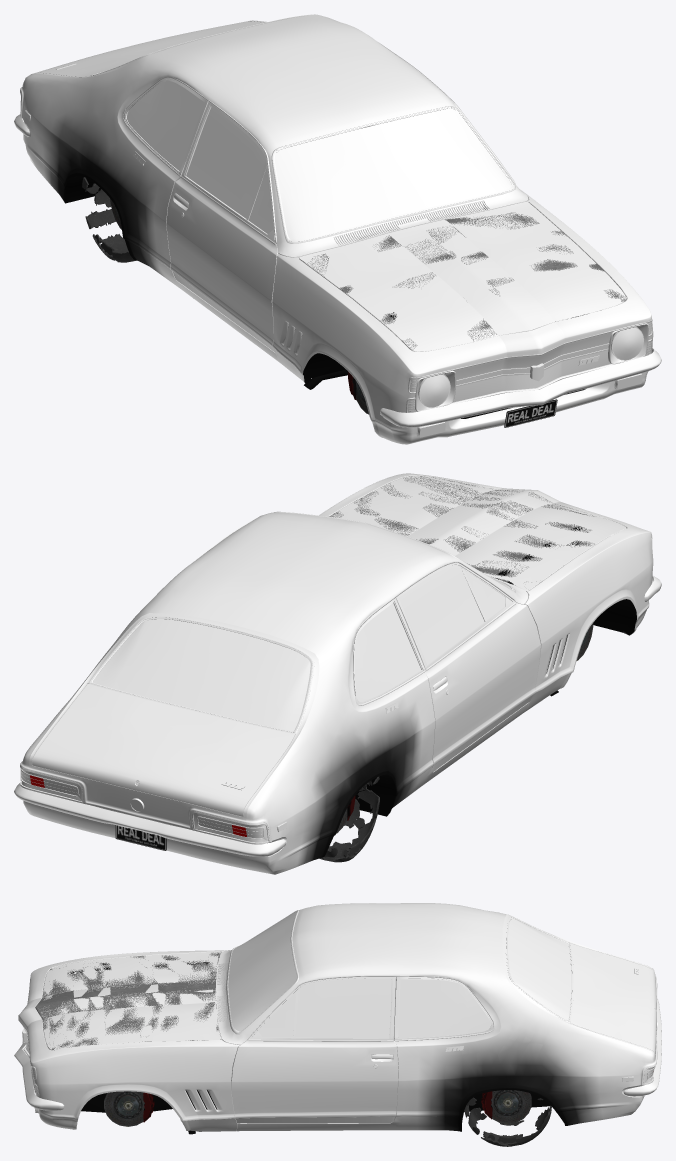
The model's file is 62_REALDEAL.fbx.
3 renders of one model, top to bottom at view 1: azimuth 30°, elevation 25°; view 2: azimuth 150°, elevation 25°; view 3: azimuth 270°, elevation 25°, orthographic. The views are drawn at different scales.
Parts seen in each view (by area): view 1: Body_Duco, Body_Glass, Body_Kit_00, Body_Chrome, Body_Matte, Body_Kit_01, Undercarrage, Numberplate, Body_Gloss; view 2: Body_Duco, Body_Glass, Body_Kit_00, Body_Chrome, Body_Kit_01, Body_Matte, Undercarrage, Body_Gloss, Numberplate; view 3: Body_Duco, Body_Glass, Body_Kit_00, Body_Kit_01, Body_Chrome, Rotor (×2), Body_Matte, Undercarrage.
Boxes of the visible parts, bbox=[...] form: Body_Duco: bbox=[20, 14, 653, 444]; Body_Glass: bbox=[127, 80, 643, 406]; Body_Kit_00: bbox=[299, 201, 626, 351]; Body_Chrome: bbox=[14, 14, 661, 436]; Body_Matte: bbox=[55, 14, 647, 410]; Body_Kit_01: bbox=[300, 212, 626, 349]; Undercarrage: bbox=[64, 176, 585, 418]; Numberplate: bbox=[504, 399, 557, 427]; Body_Gloss: bbox=[24, 110, 642, 437]; Body_Duco: bbox=[20, 473, 653, 874]; Body_Glass: bbox=[93, 566, 511, 731]; Body_Kit_00: bbox=[329, 475, 626, 591]; Body_Chrome: bbox=[14, 511, 661, 856]; Body_Kit_01: bbox=[329, 476, 594, 585]; Body_Matte: bbox=[21, 512, 515, 842]; Undercarrage: bbox=[332, 599, 636, 839]; Body_Gloss: bbox=[21, 771, 287, 838]; Numberplate: bbox=[115, 825, 166, 850]; Body_Duco: bbox=[18, 903, 657, 1131]; Body_Glass: bbox=[31, 911, 571, 1084]; Body_Kit_00: bbox=[40, 951, 221, 1050]; Body_Kit_01: bbox=[35, 952, 220, 1050]; Body_Chrome: bbox=[14, 903, 661, 1113]; Rotor (×2): bbox=[104, 1090, 531, 1126]; Body_Matte: bbox=[27, 910, 654, 1083]; Undercarrage: bbox=[81, 1090, 556, 1134].
Size of the model in its own units: 1.67 by 1.26 by 4.33.
